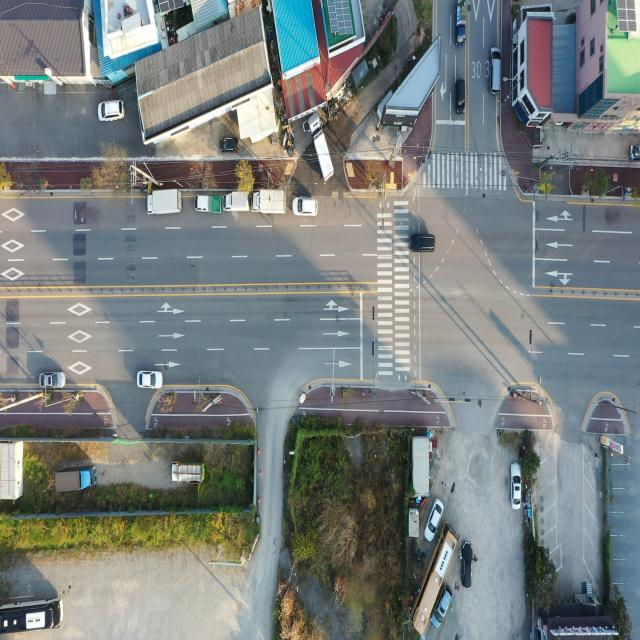car: (430, 582, 454, 625), (459, 538, 475, 590), (425, 501, 443, 544), (488, 46, 502, 95), (97, 99, 126, 122), (510, 465, 522, 510), (294, 197, 319, 217), (409, 234, 435, 253), (454, 77, 466, 118), (137, 372, 162, 390), (40, 372, 65, 390), (218, 137, 241, 155)
large_bus: (412, 525, 461, 637), (0, 597, 62, 636)
medium_truck: (308, 111, 337, 181), (55, 464, 97, 497), (147, 188, 184, 216), (253, 188, 287, 215)
small_truck: (170, 461, 205, 486), (452, 0, 468, 47), (195, 189, 225, 213), (221, 191, 250, 214)
